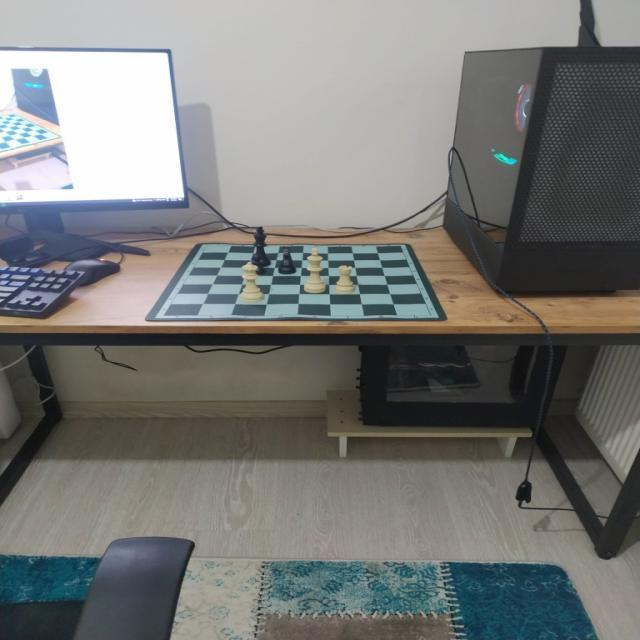chess-table-corners: (157, 312, 171, 320), (424, 311, 437, 319), (395, 242, 407, 249), (202, 240, 212, 248)
